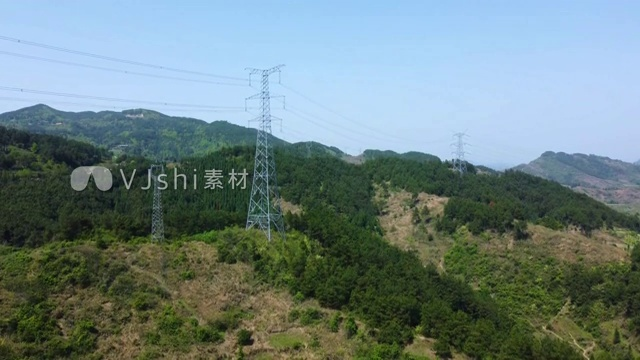tower_body: (234, 57, 301, 244), (451, 127, 471, 179)
tower_foot: (244, 210, 290, 240)
tower_head: (240, 61, 290, 81)
